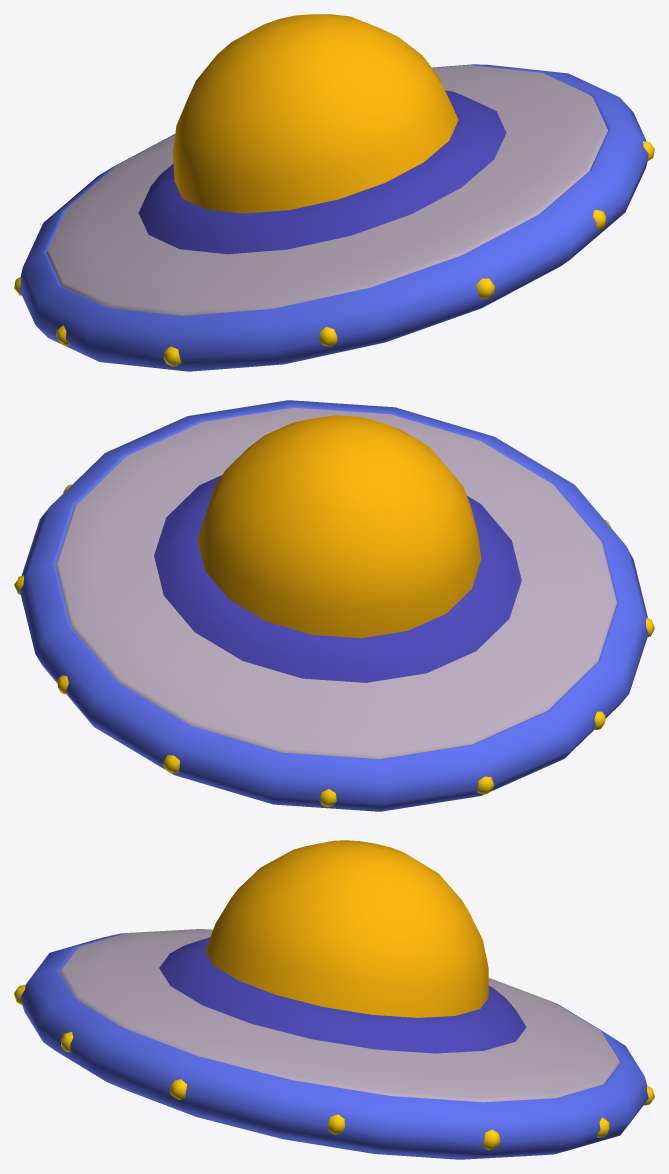
The model's file is Hat_11_02.fbx.
3 renders of one model, top to bottom at view 1: azimuth 30°, elevation 25°; view 2: azimuth 150°, elevation 25°; view 3: azimuth 270°, elevation 25°, orthographic. The views are drawn at different scales.
Visible parts, largest first — view 1: Hat_11_02; view 2: Hat_11_02; view 3: Hat_11_02.
Boxes of the visible parts, x1,y1,x2,y2 form: Hat_11_02: [14, 14, 654, 371]; Hat_11_02: [14, 400, 654, 811]; Hat_11_02: [14, 840, 654, 1159].
Size of the model in its own units: 78.25 by 37.82 by 79.6.
